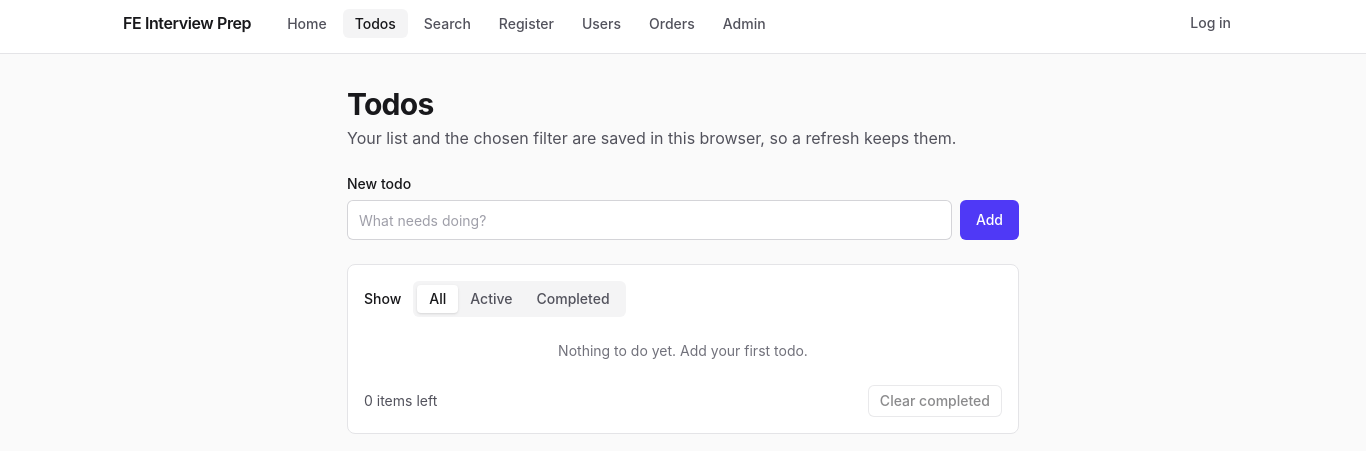
Test: TodosPage › adds a todo from the labelled form and clears the input
The width and height of the screenshot is (1366, 451).
Check: the heading "Todos" is shown, box x1=347 y1=86 x2=434 y2=122
Check: the text "Nothing to do yet. Add your first todo." is shown, box x1=558 y1=342 x2=808 y2=359
Type "  Buy milk  " into the field labelled "New todo" at (649, 220), box x1=347 y1=200 x2=952 y2=240
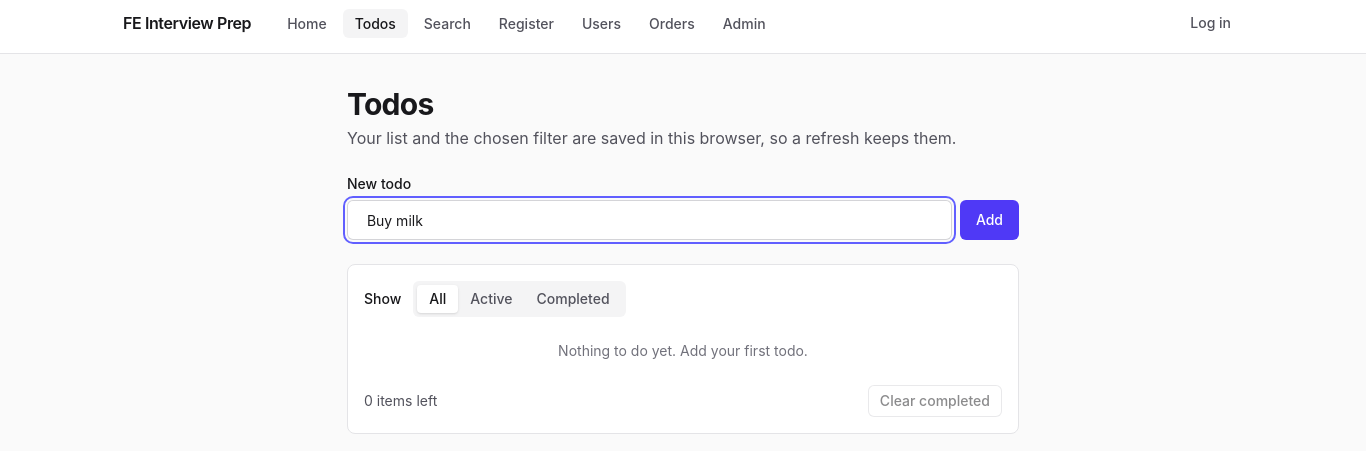
Click the button "Add" at (989, 220), box x1=960 y1=200 x2=1019 y2=240
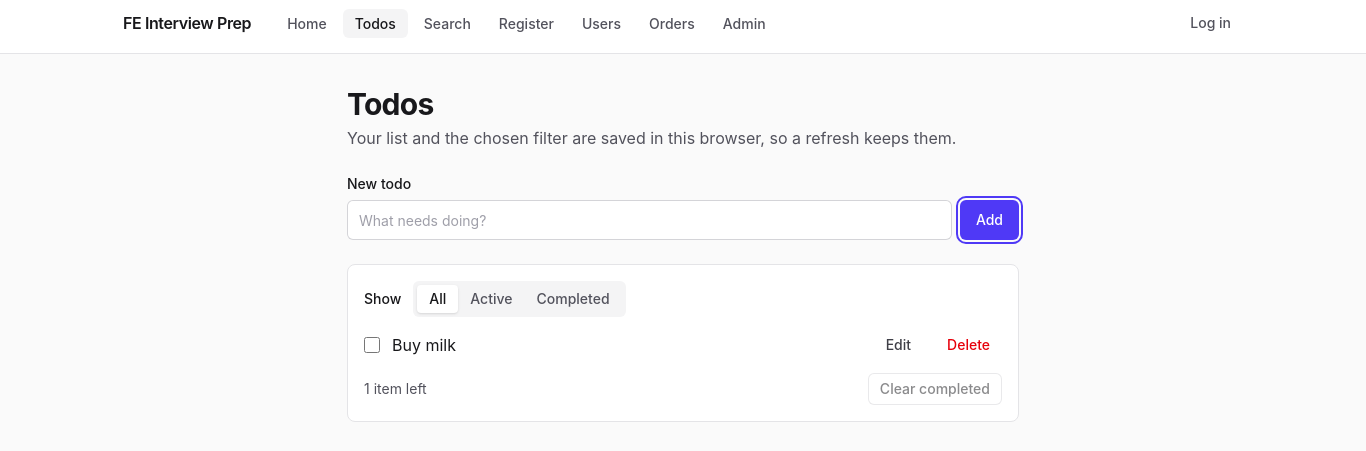
Check: the field labelled "New todo" is empty, box x1=347 y1=200 x2=952 y2=240
Check: the message reads "1 item left", box x1=364 y1=379 x2=427 y2=399
